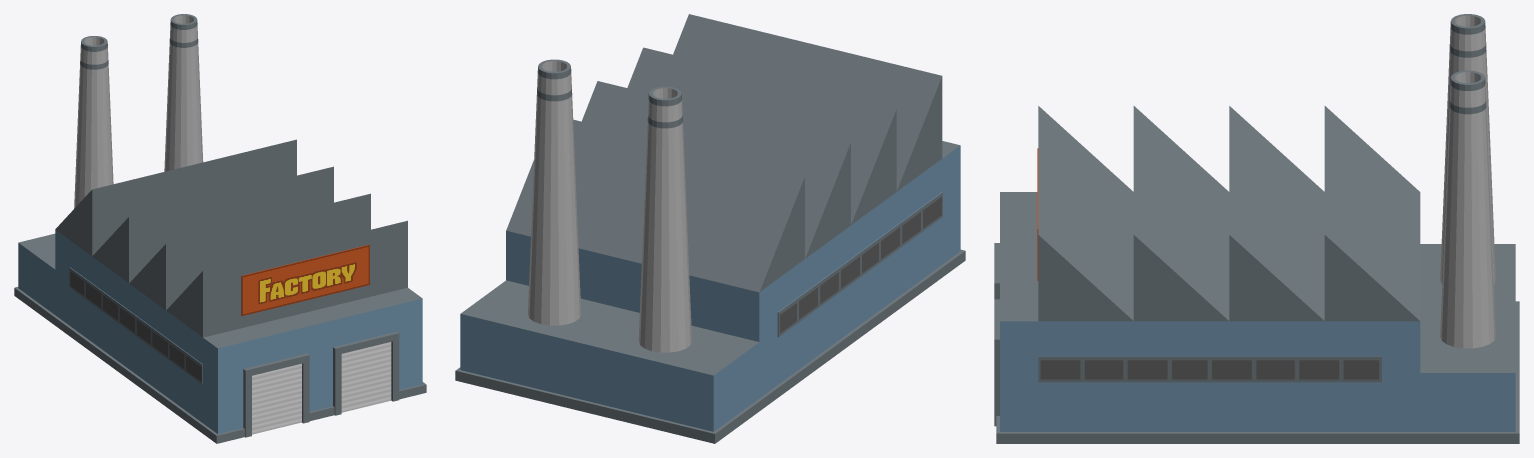
File: building-factory.glb
The picture shows the model from 3 angles, left to right: view 1: azimuth 30°, elevation 25°; view 2: azimuth 150°, elevation 25°; view 3: azimuth 270°, elevation 25°; orthographic projection. The views are drawn at different scales.
Parts seen in each view (by area): view 1: model; view 2: model; view 3: model.
Part boxes in pixels (bbox=[...]): model: bbox=[14, 14, 426, 443]; model: bbox=[455, 14, 965, 443]; model: bbox=[994, 14, 1519, 443].
Size of the model in its own units: 16.4 by 18.97 by 27.5.
1 material, 1 textured.
